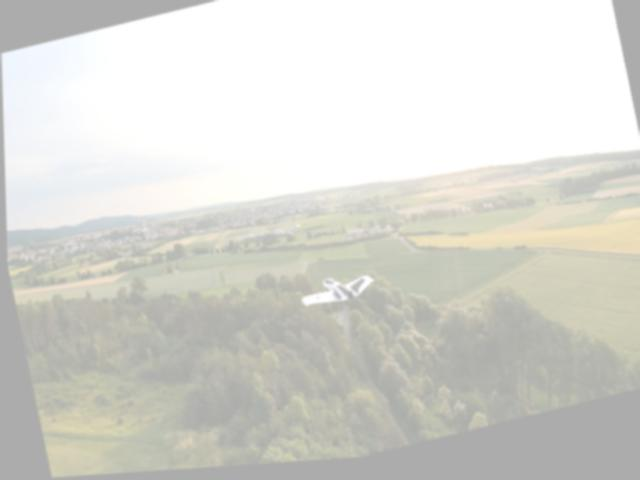plane: (296, 271, 377, 317)
